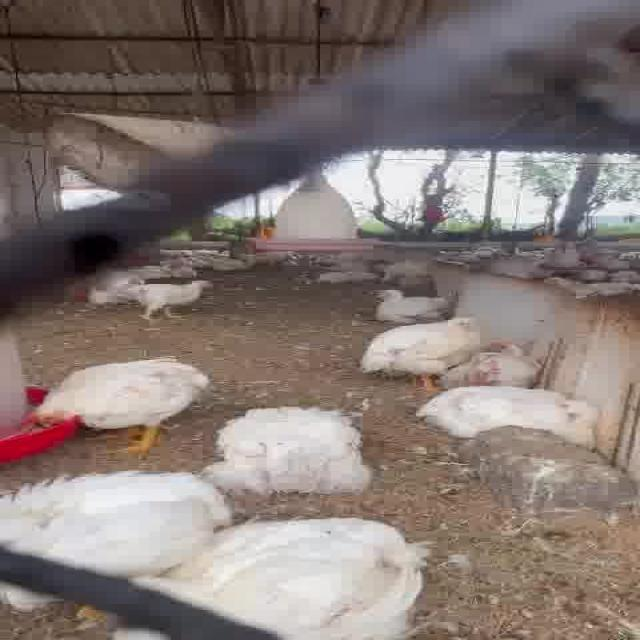AbNormal: (134, 509, 428, 634), (1, 460, 242, 580), (176, 396, 394, 488), (406, 387, 610, 440), (428, 340, 584, 400), (339, 268, 477, 318)
Normal: (28, 342, 221, 458), (348, 312, 486, 383), (124, 264, 225, 318)
